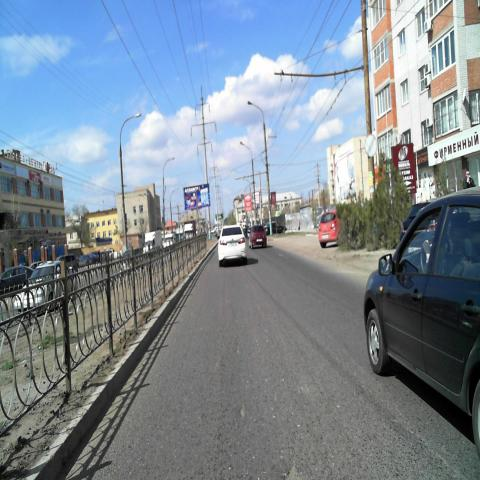3_31: (364, 134, 378, 158)
